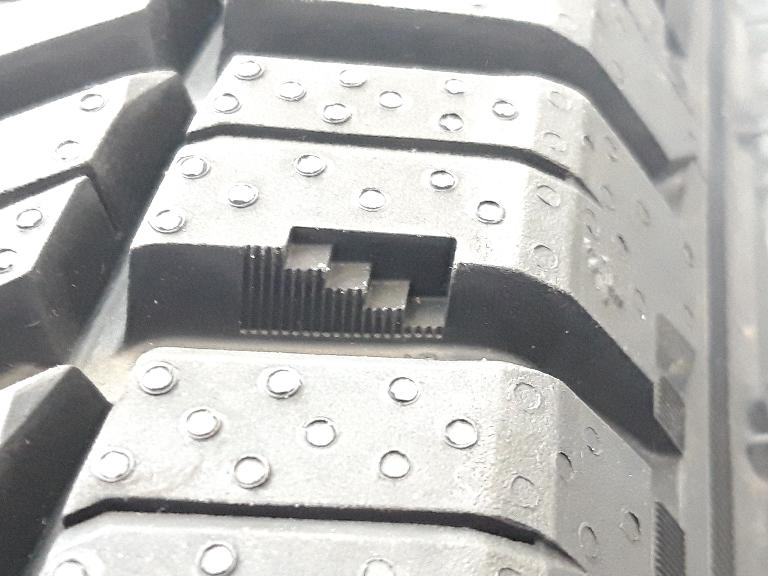temoin:100: (232, 220, 467, 349)
